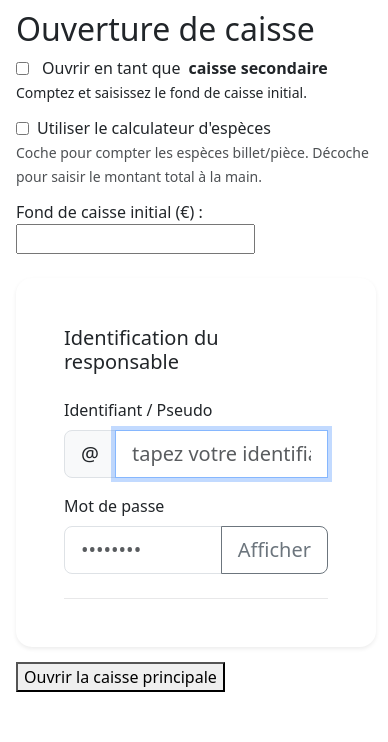
OuvertureCaisse › affiche le message d’erreur renvoyé par le backend
Type "100" into the number field labelled "Fond de caisse initial (€) :".
click(136, 239); type("100")  # box [16,224,255,254]
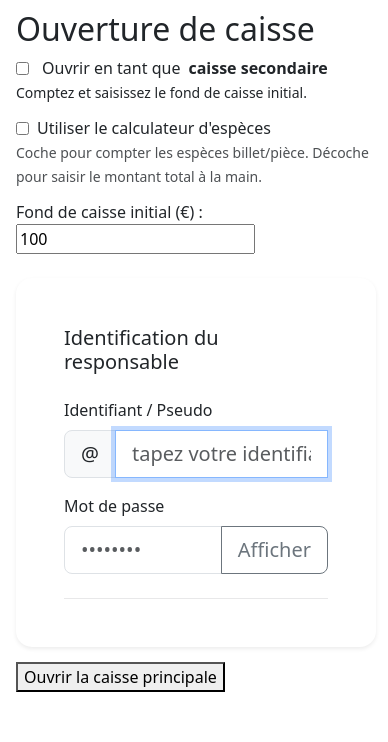
Type "admin" into the field labelled "Identifiant / Pseudo".
click(222, 454); type("admin")  # box [115,430,328,478]
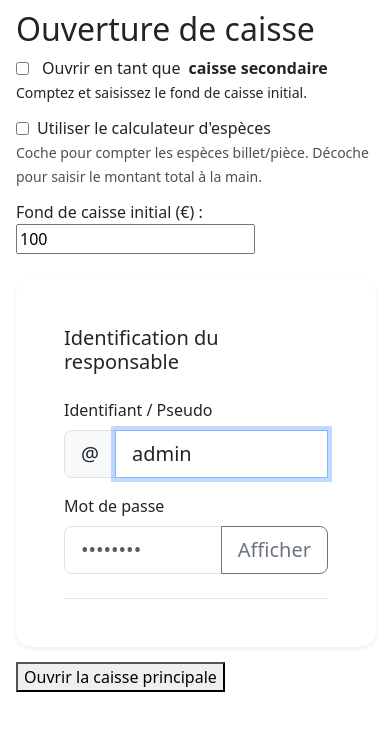
Type "secret" into the password field labelled "Mot de passe".
click(143, 550); type("secret")  # box [64,526,222,574]
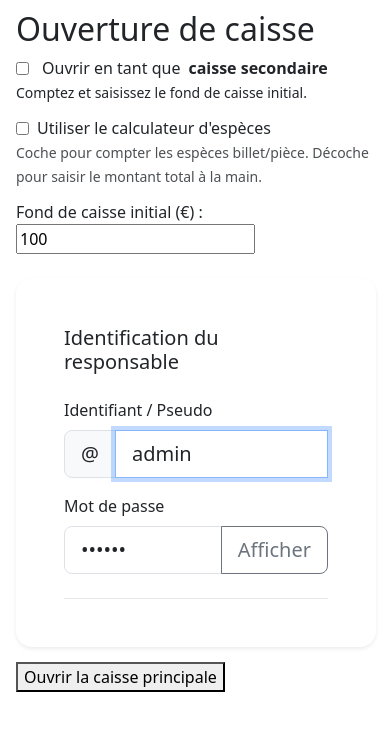
Click the button "Ouvrir la caisse principale".
click(120, 677)  # box [16,662,225,692]
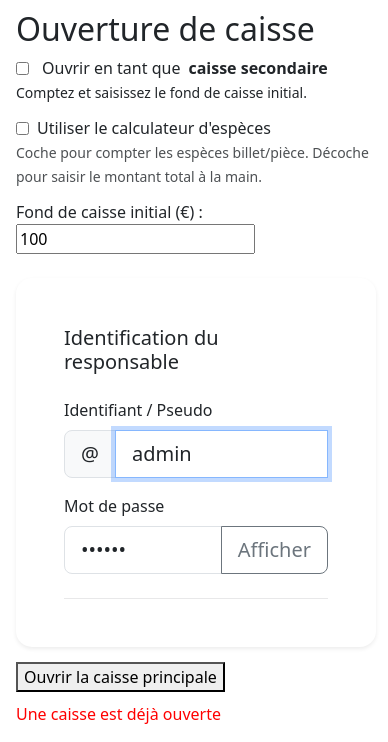
Result: the text "Une caisse est déjà ouverte" is shown at [16,703,221,725]
